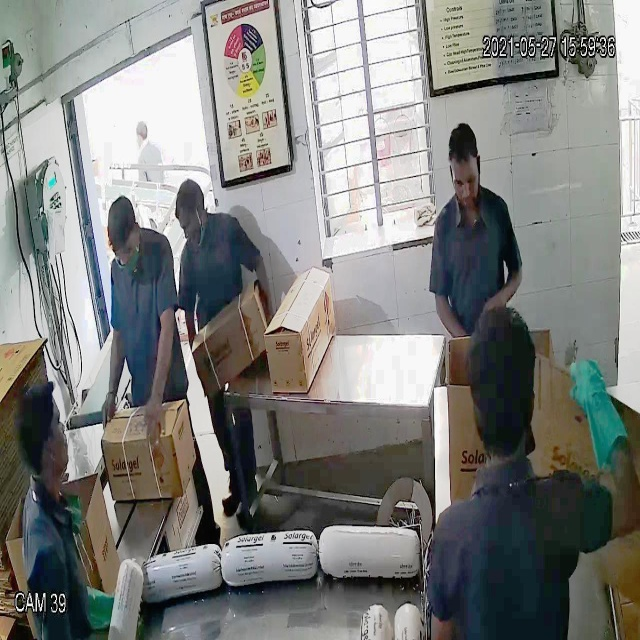Sin_gafas: (450, 164, 481, 192)
